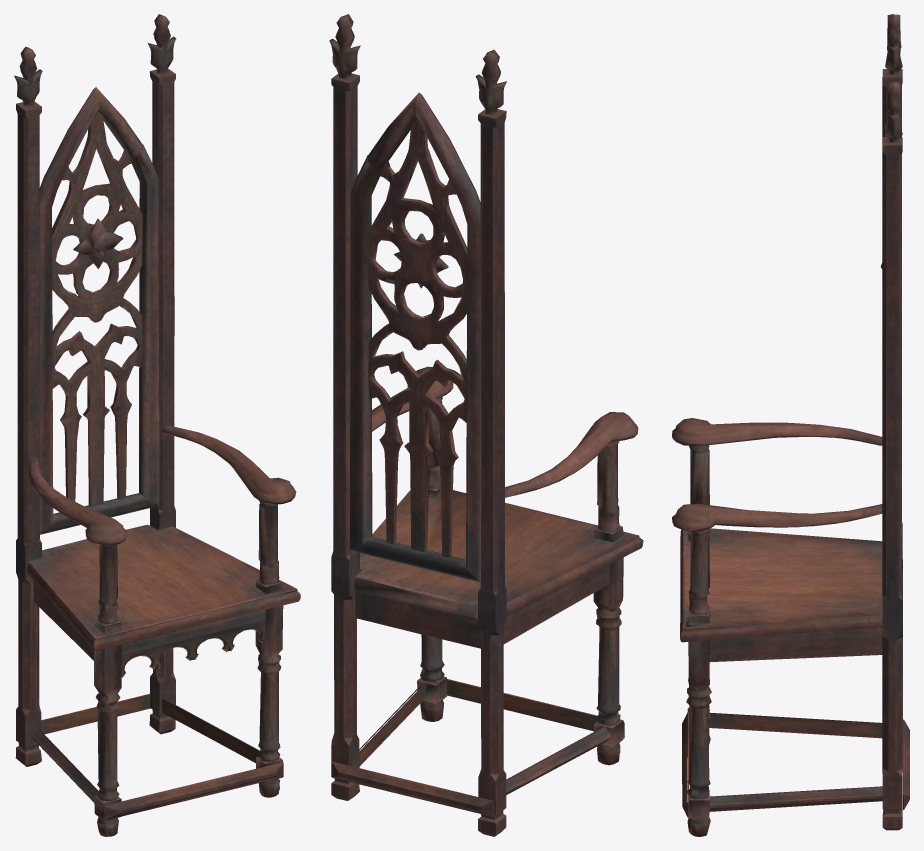
The model's file is high_seat.glb.
The picture shows the model from 3 angles, left to right: view 1: azimuth 30°, elevation 25°; view 2: azimuth 150°, elevation 25°; view 3: azimuth 270°, elevation 25°; orthographic projection. The views are drawn at different scales.
Parts seen in each view (by area): view 1: WoodenChair_01; view 2: WoodenChair_01; view 3: WoodenChair_01.
Part boxes in pixels (x1,y1,x2,y2): WoodenChair_01: [14, 14, 300, 836]; WoodenChair_01: [329, 14, 643, 836]; WoodenChair_01: [672, 14, 909, 836].
Size of the model in its own units: 0.6897 by 2.27 by 0.6576.
Materials: 1 (1 with a texture image).
